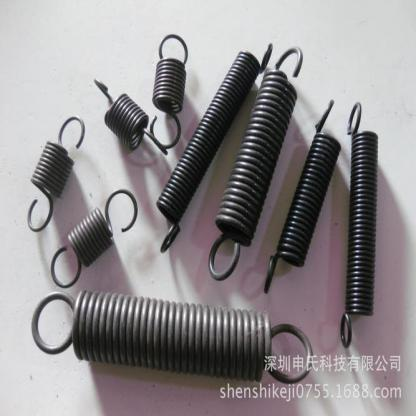FOD: (27, 289, 314, 391), (153, 41, 274, 253), (208, 40, 303, 284), (262, 97, 341, 296), (338, 99, 380, 350), (49, 186, 139, 289), (25, 113, 84, 233), (93, 72, 168, 160), (148, 31, 188, 150)
